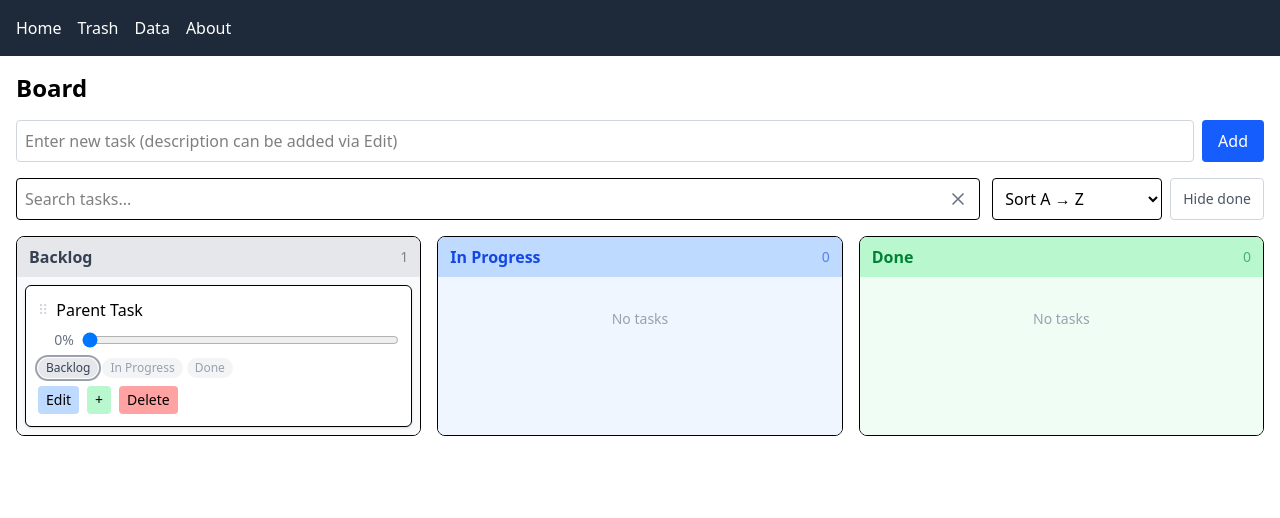
displays the subtask nested under the parent
Step 1. Click the button named "add subtask to parent task" → {"x": 99, "y": 400}, box 87,386 -> 111,414
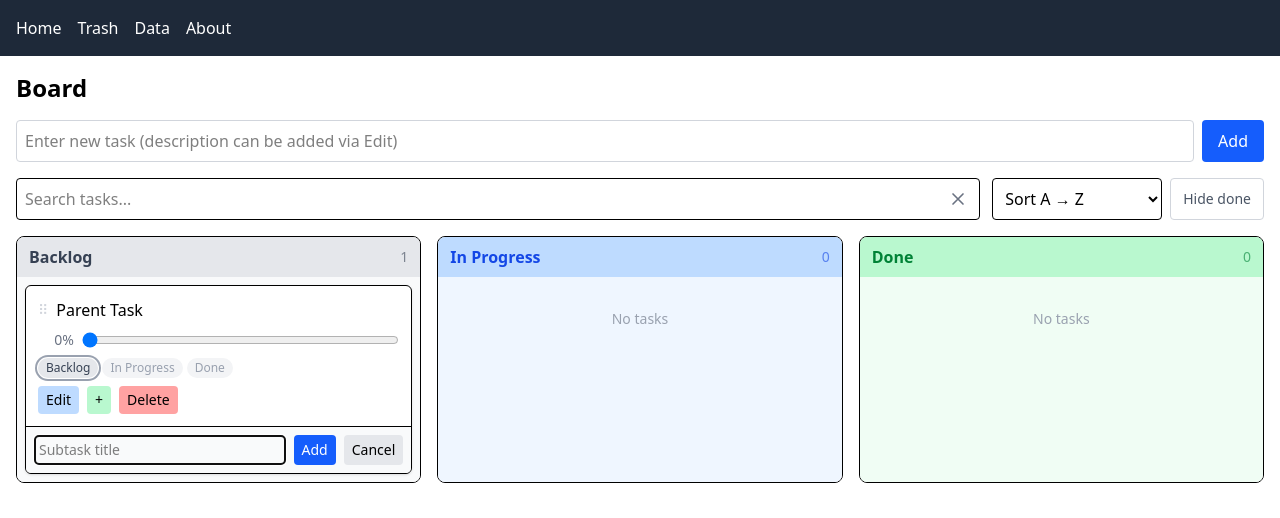
Step 2. Type "My Subtask" into the field with placeholder "Subtask title" → {"x": 160, "y": 450}, box 34,435 -> 286,465
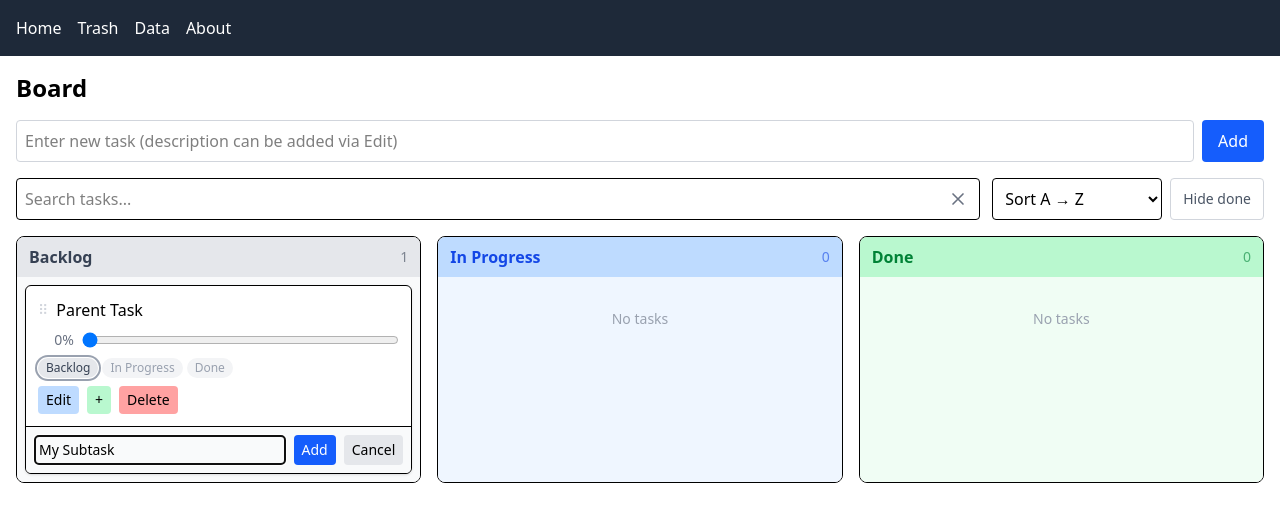
Step 3. Submit the form with placeholder "subtask title", box 34,435 -> 403,465
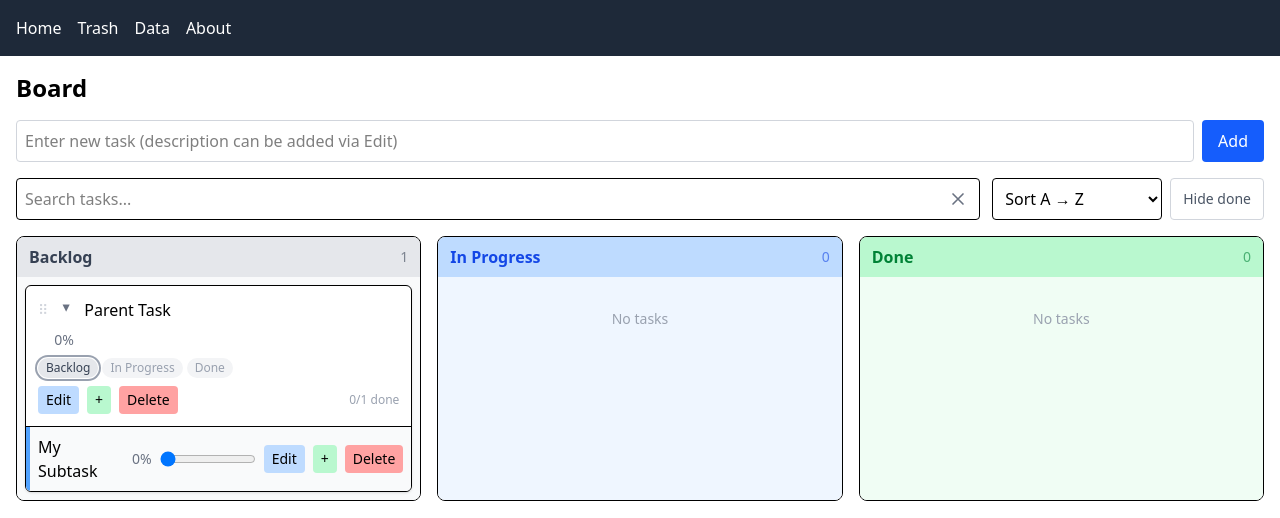
Result: the text "My Subtask" is shown at 38,435 -> 108,483
